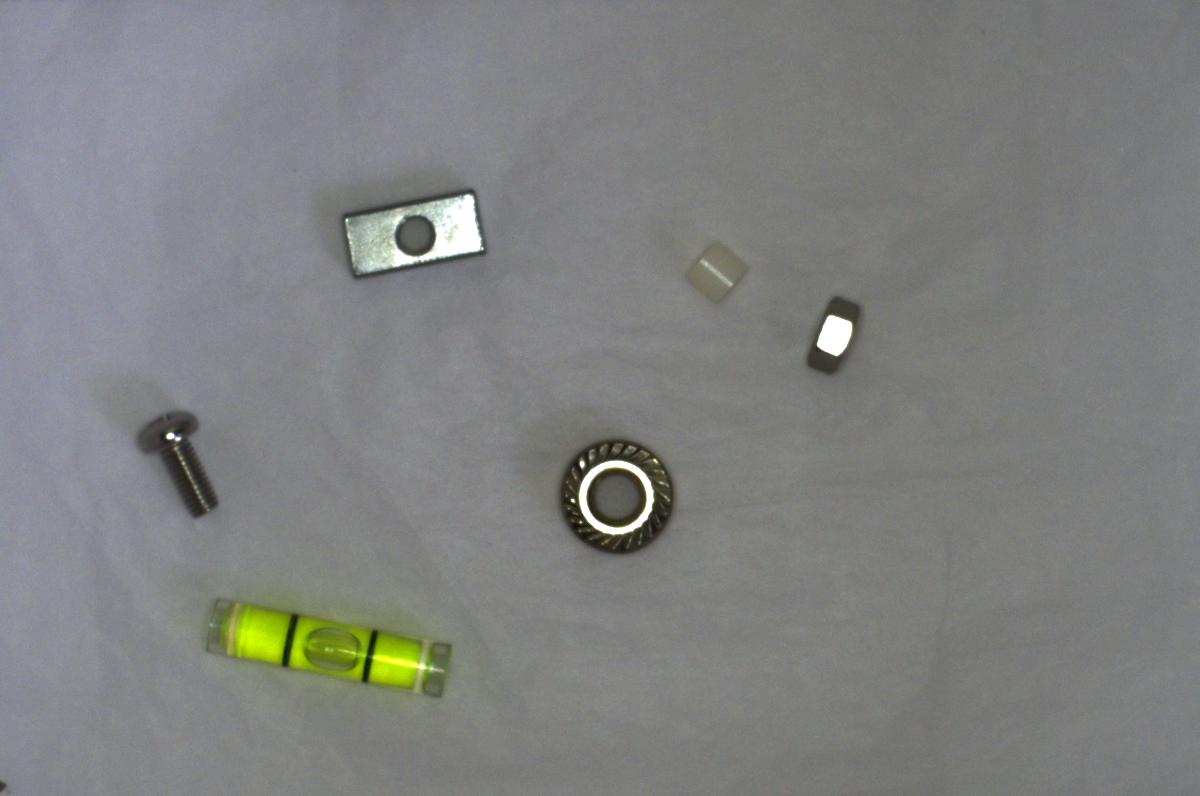Flange nut: (547, 430, 686, 563)
Hexagon nut: (788, 281, 878, 375)
Horizontal bubble: (200, 585, 457, 703)
Plastic cushion pillar: (679, 232, 753, 310)
Rectangular nut: (333, 190, 488, 282)
Round head screw: (127, 402, 220, 523)
